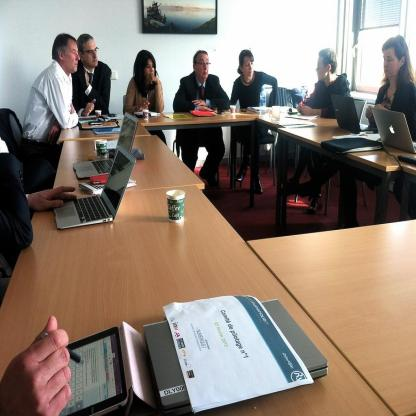board: (55, 145, 137, 230), (72, 110, 138, 178), (371, 108, 416, 154), (330, 95, 378, 132), (260, 87, 267, 120)
